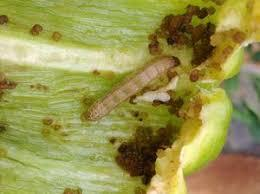fallarmy_worm: (82, 55, 184, 123)
